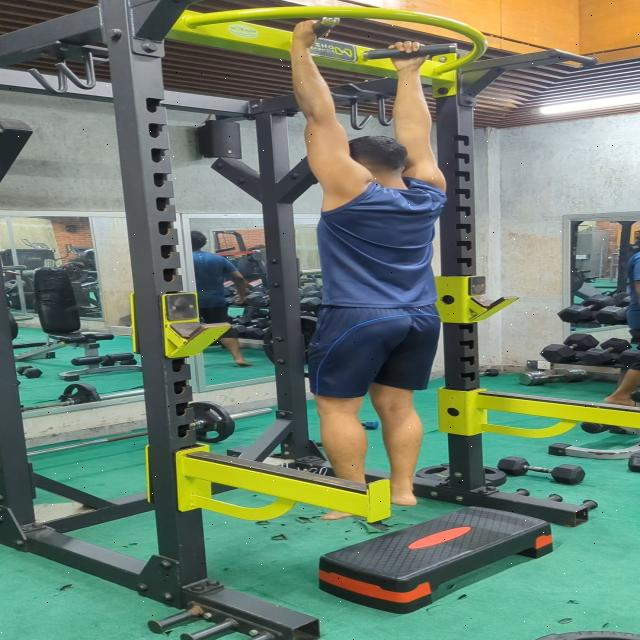Normal_PullUps: (288, 16, 450, 524)
